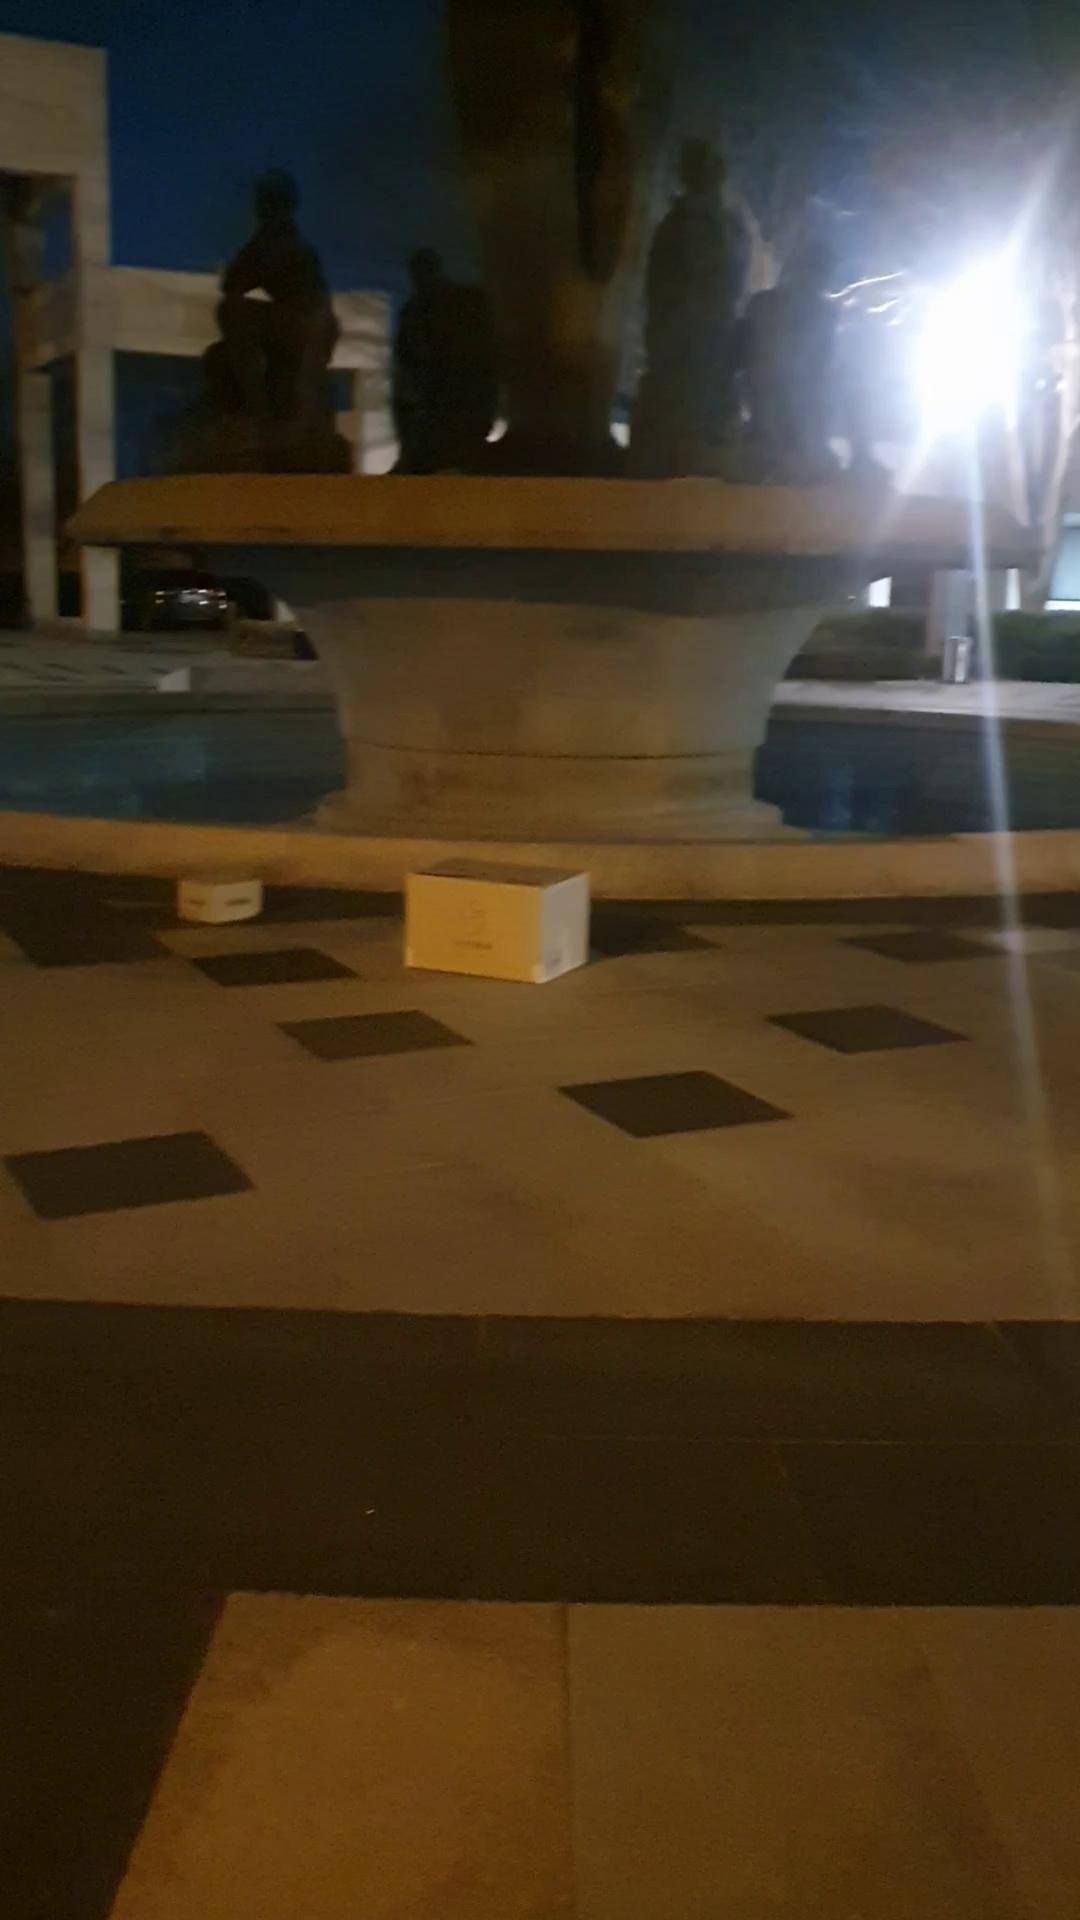Box: (404, 845, 597, 986), (164, 858, 277, 934)
